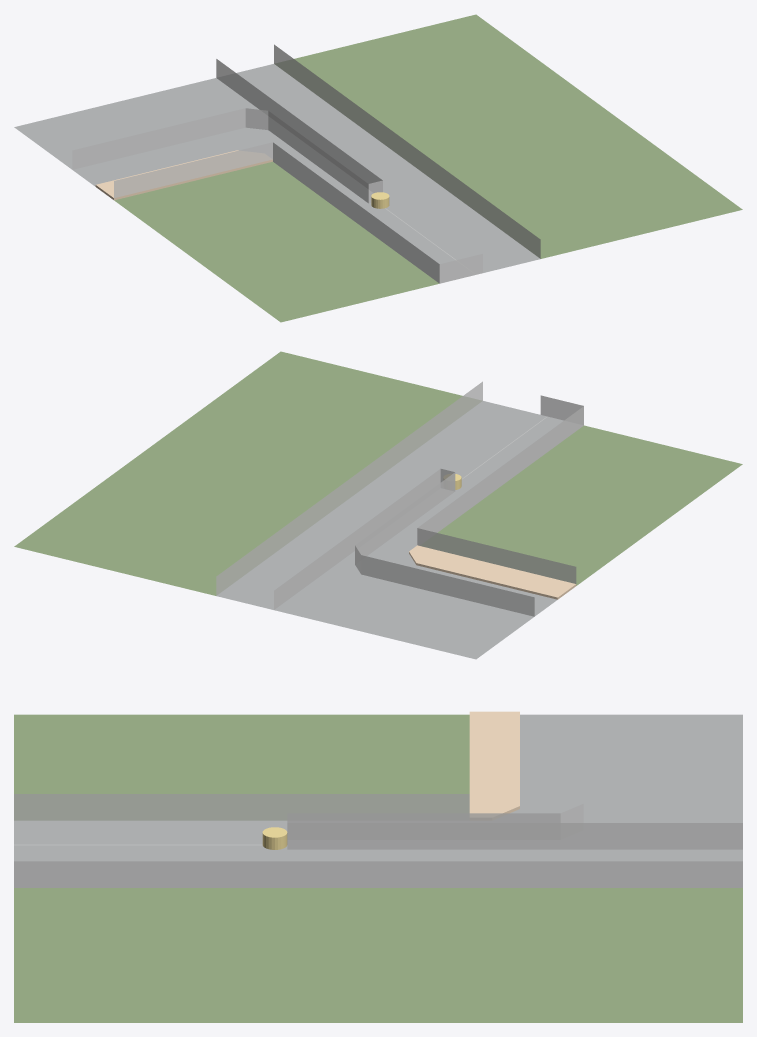
File: map09.gltf
3 renders of one model, top to bottom at view 1: azimuth 30°, elevation 25°; view 2: azimuth 150°, elevation 25°; view 3: azimuth 270°, elevation 25°, orthographic. The views are drawn at different scales.
Parts seen in each view (by area): view 1: Node1, Node35, Node2, Node4, Node28, Node5, Node37, Node16, Node38, Node40, Node34, Node36; view 2: Node1, Node35, Node2, Node4, Node28, Node5, Node37, Node16, Node40, Node38, Node34, Node36; view 3: Node1, Node35, Node2, Node4, Node28, Node16, Node37, Node34, Node40, Node3.
Boxes of the visible parts, left/top/right/bottom form: Node1: left=275, top=14, right=742, bottom=258; Node35: left=114, top=161, right=439, bottom=322; Node2: left=73, top=64, right=540, bottom=282; Node4: left=14, top=78, right=372, bottom=202; Node28: left=274, top=44, right=540, bottom=258; Node5: left=72, top=108, right=245, bottom=169; Node37: left=273, top=142, right=439, bottom=283; Node16: left=216, top=59, right=382, bottom=192; Node38: left=114, top=142, right=272, bottom=198; Node40: left=96, top=150, right=271, bottom=197; Node34: left=268, top=111, right=368, bottom=203; Node36: left=439, top=254, right=482, bottom=283; Node1: left=14, top=351, right=481, bottom=595; Node35: left=420, top=425, right=742, bottom=585; Node2: left=216, top=401, right=582, bottom=616; Node4: left=274, top=489, right=534, bottom=659; Node28: left=216, top=381, right=482, bottom=595; Node5: left=361, top=555, right=534, bottom=616; Node37: left=418, top=406, right=583, bottom=544; Node16: left=274, top=469, right=440, bottom=609; Node40: left=409, top=545, right=575, bottom=597; Node38: left=417, top=528, right=576, bottom=583; Node34: left=355, top=472, right=455, bottom=563; Node36: left=540, top=395, right=583, bottom=424; Node1: left=14, top=888, right=742, bottom=1022; Node35: left=14, top=714, right=469, bottom=819; Node2: left=14, top=714, right=742, bottom=887; Node4: left=288, top=714, right=742, bottom=848; Node28: left=14, top=861, right=742, bottom=887; Node16: left=287, top=823, right=742, bottom=849; Node37: left=14, top=794, right=469, bottom=820; Node34: left=287, top=813, right=560, bottom=839; Node40: left=469, top=711, right=519, bottom=816; Node3: left=560, top=804, right=583, bottom=838.
Size of the model in its own units: 2139194 by 86176 by 2139194.
